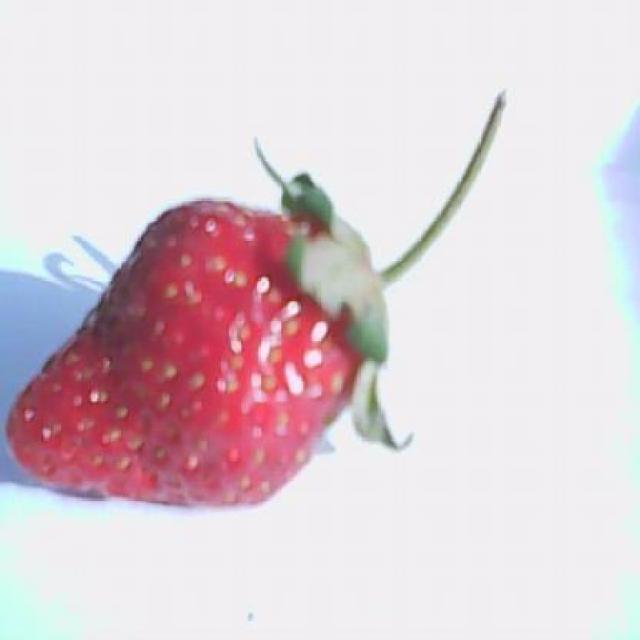strawberry: (8, 99, 501, 504)
